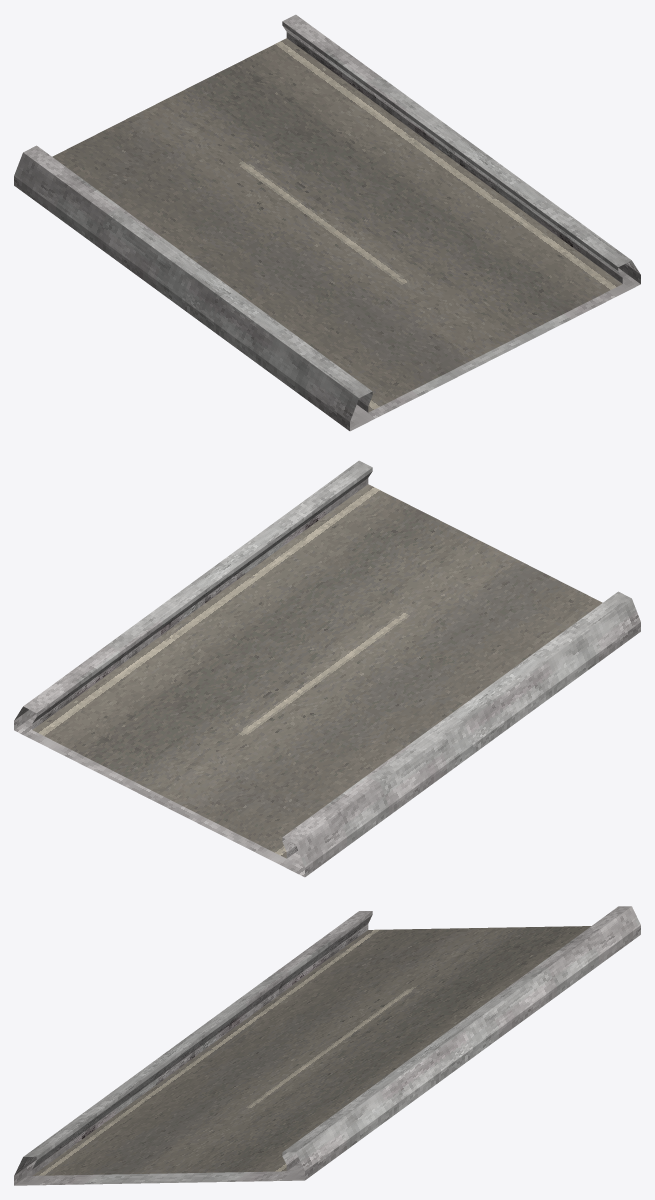
The model's file is road-Straight-HalfBankedLeft-HalfBankedLeft-Even-Center-Size2.glb.
3 renders of one model, top to bottom at view 1: azimuth 30°, elevation 25°; view 2: azimuth 150°, elevation 25°; view 3: azimuth 330°, elevation 25°, orthographic.
Parts seen in each view (by area): view 1: road-Straight-HalfBankedLeft-HalfBankedLeft-Even-Center-Size; view 2: road-Straight-HalfBankedLeft-HalfBankedLeft-Even-Center-Size; view 3: road-Straight-HalfBankedLeft-HalfBankedLeft-Even-Center-Size.
Boxes of the visible parts, x1,y1,x2,y2 form: road-Straight-HalfBankedLeft-HalfBankedLeft-Even-Center-Size: (14,14,640,431); road-Straight-HalfBankedLeft-HalfBankedLeft-Even-Center-Size: (14,460,640,877); road-Straight-HalfBankedLeft-HalfBankedLeft-Even-Center-Size: (14,906,640,1185).
Size of the model in its own units: 1 by 0.3359 by 2.
2 materials, 2 textured.
